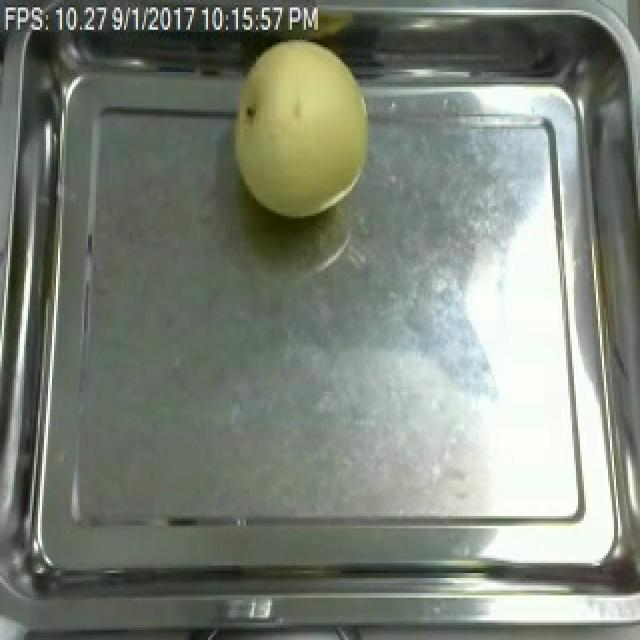Fruit: (224, 27, 380, 226)
